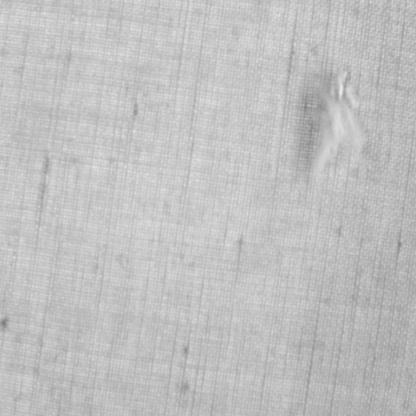objects: (304, 68, 371, 174)
